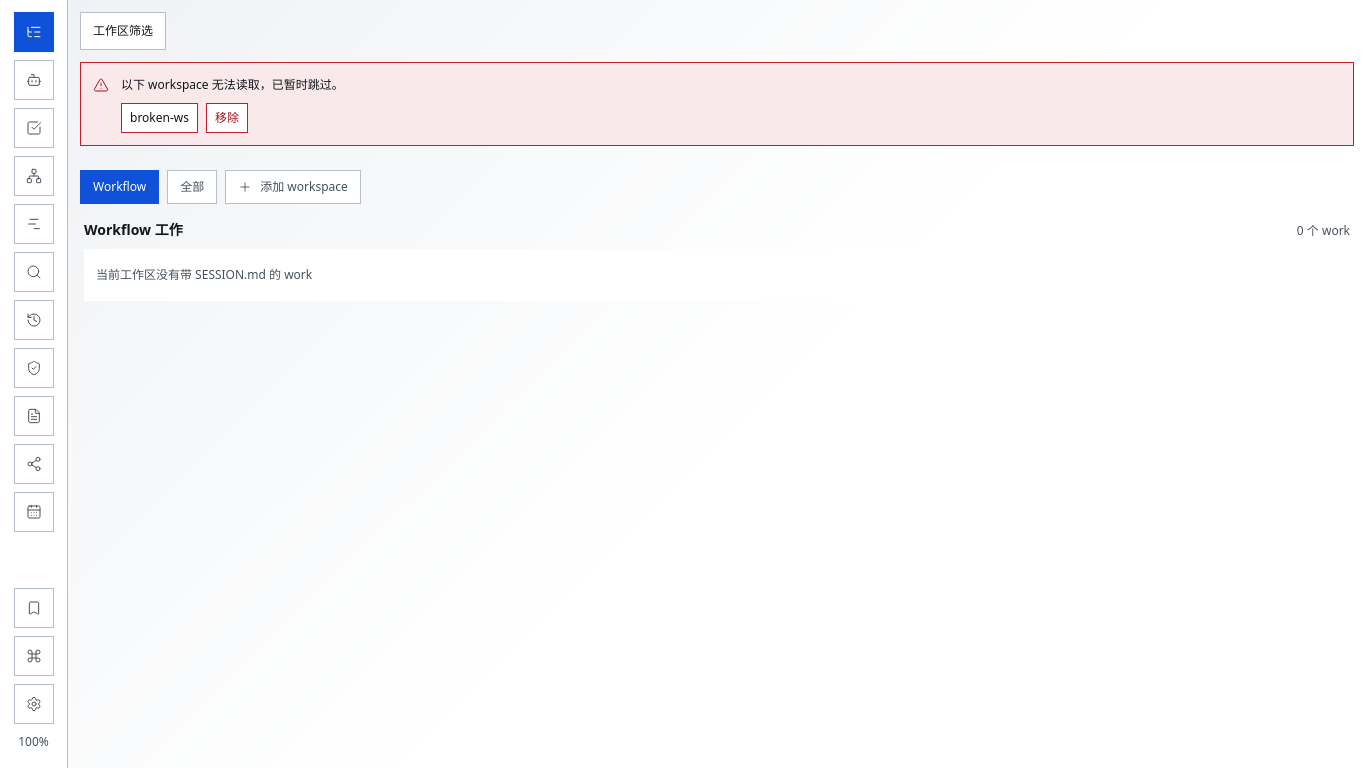
App › shows a visible error when workspace removal fails
What coordinates should you click on to do the following:
click the button named "移除 workspace broken-ws"
I would click on:
 (227, 118)
Its box is [206,103,248,133].
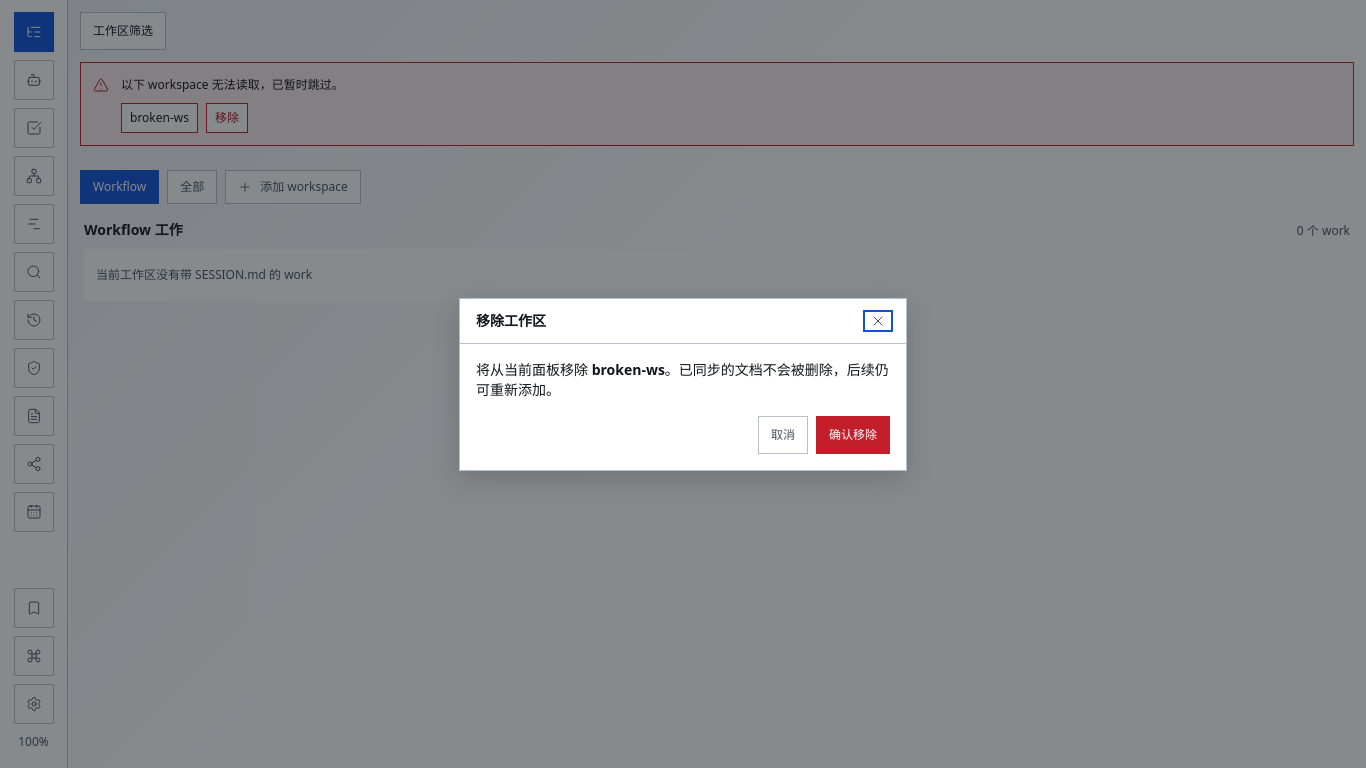
What coordinates should you click on to do the following:
click the button with test id "confirm-remove-workspace"
I would click on:
 (853, 434)
Its box is [816,416,890,454].
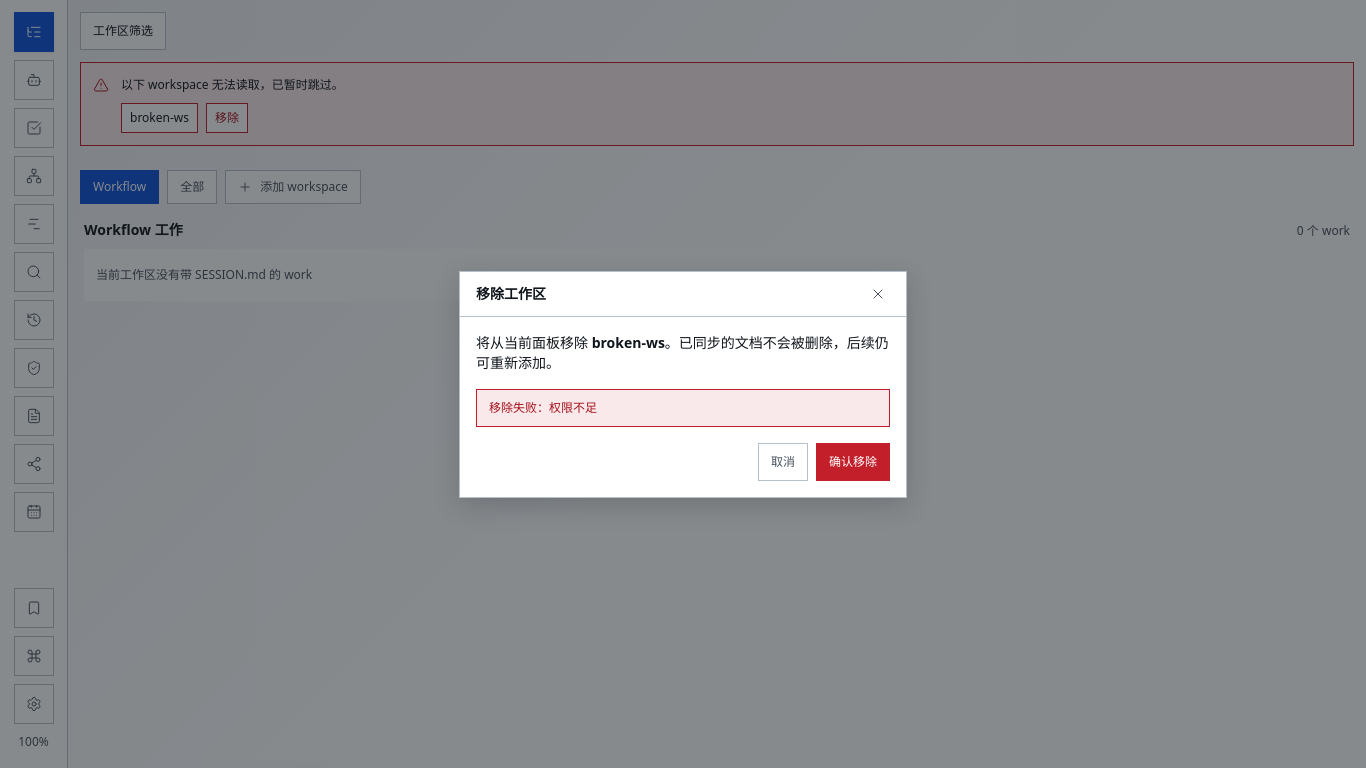
Check: the dialog "移除工作区" is shown, box [459,270,907,498]
Check: the text with test id "remove-workspace-error" reads "移除失败：权限不足", box [489,398,597,416]
